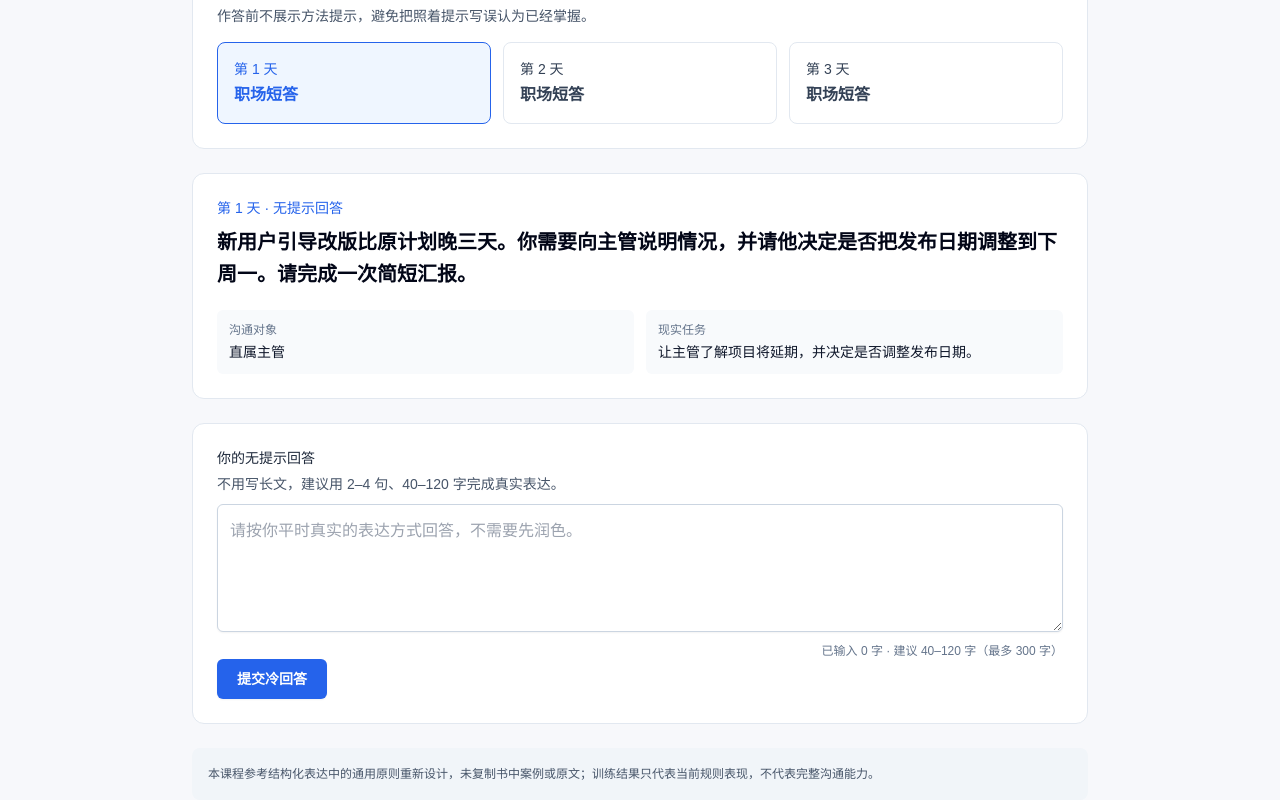
Test: Module 10 classic structured-practice public route › 短回答会显示明确错误，不会出现点击后无反应
(page scrolled)
In the text box labelled "你的无提示回答": (640, 568) [217, 504, 1063, 632], type "太短了"
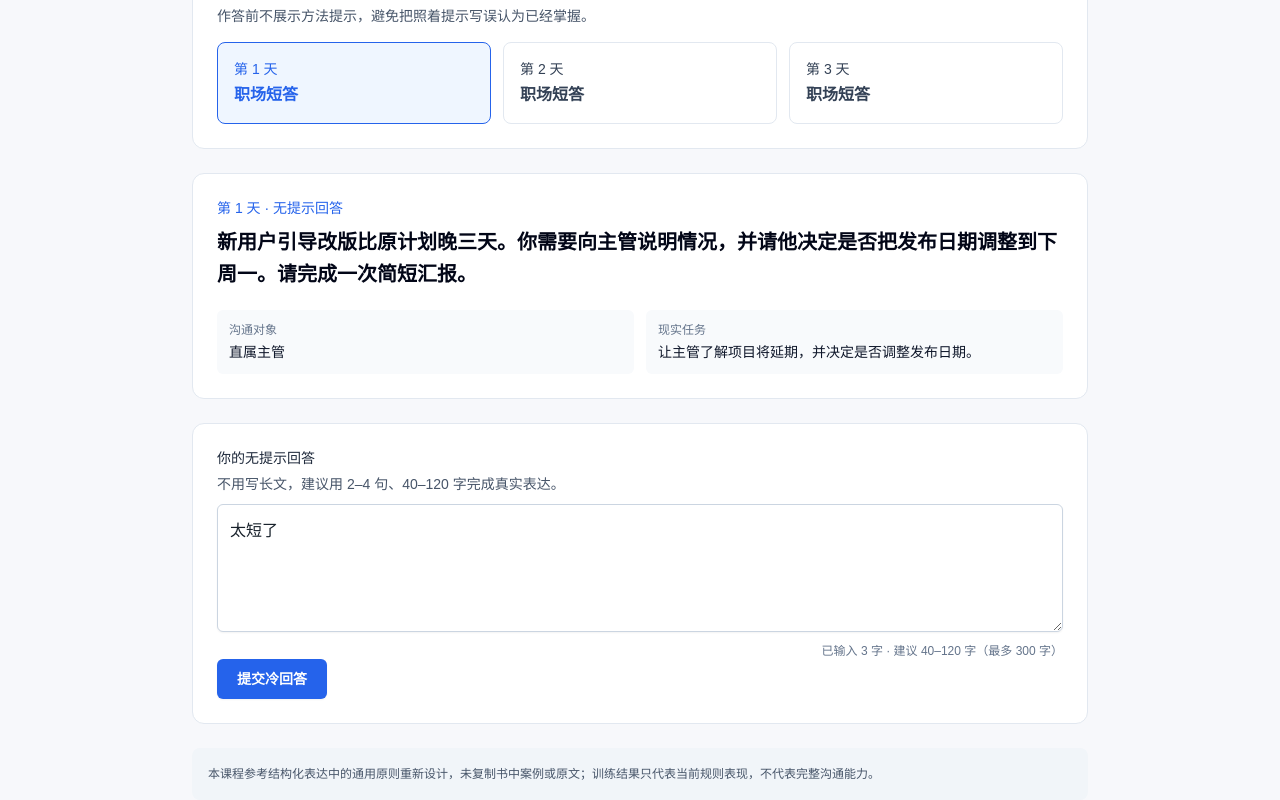
Click the button "提交冷回答": (272, 679) [217, 659, 327, 699]
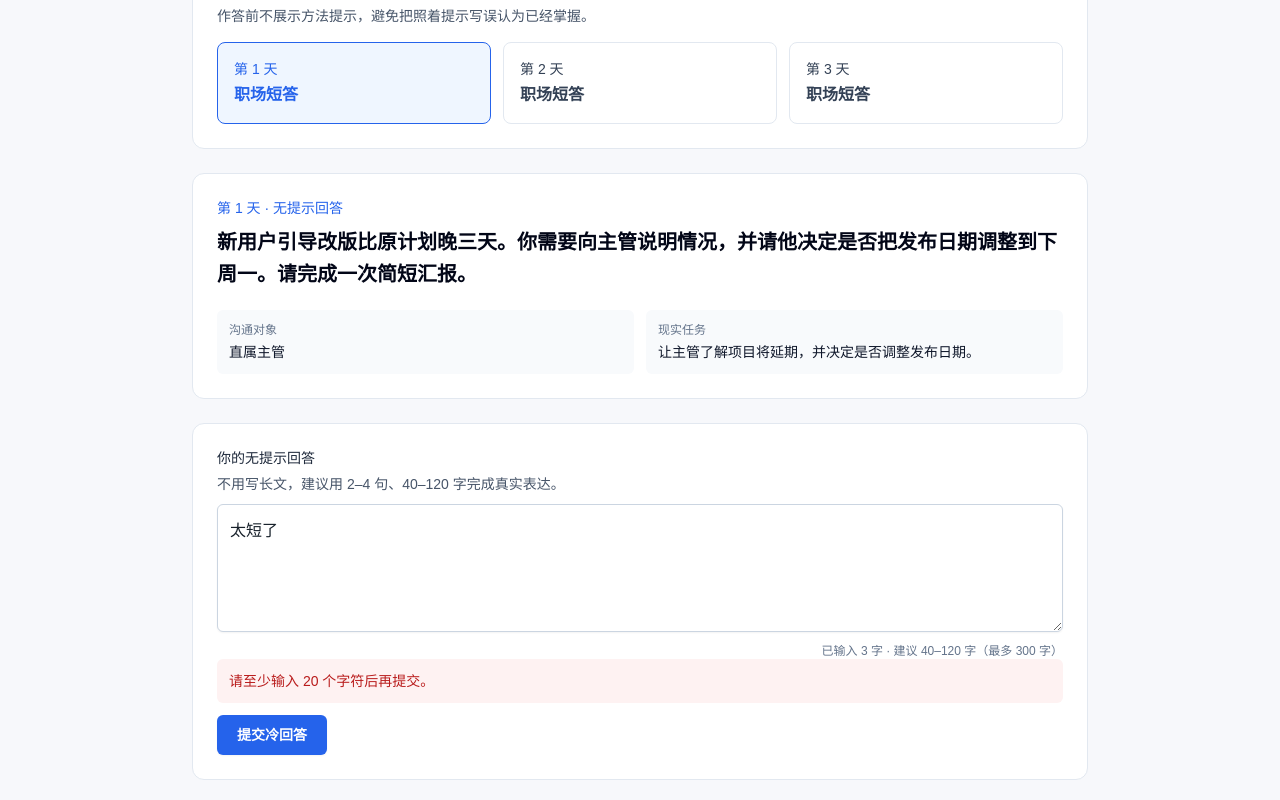
Expected: the message reads "请至少输入 20 个字符后再提交。", [229, 673, 434, 689]
